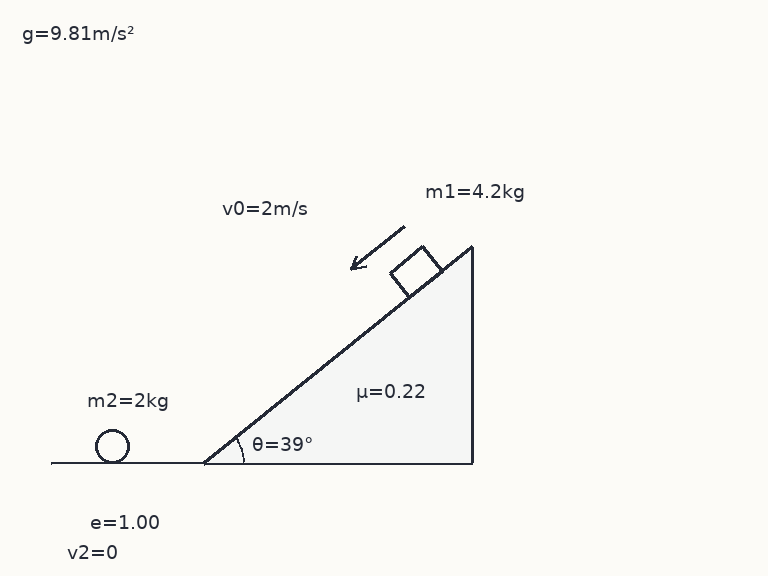ball: (93, 427, 131, 465)
block: (388, 245, 444, 299)
ramp: (202, 245, 473, 465)
